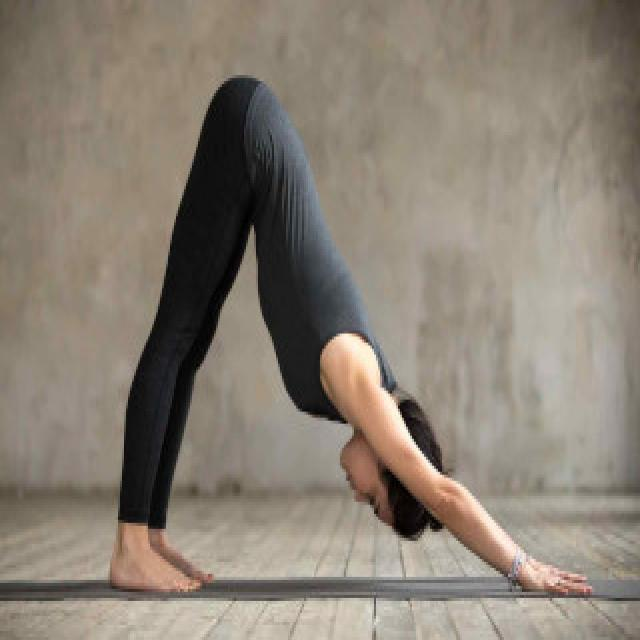yoga-pose downward: (109, 74, 592, 604)
